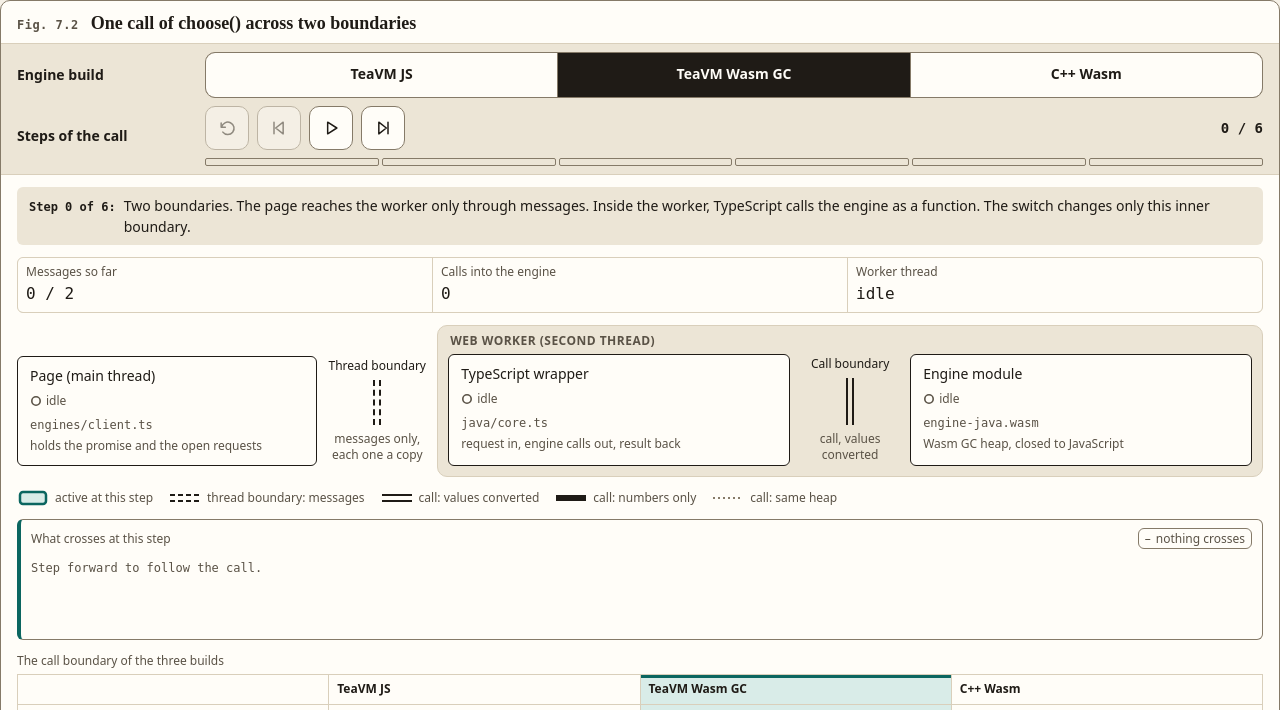
Scenario: figure J7: walls and variants › changes wall B, the tag, the files and the memory note on a switch, and wall A not at all
Click the radio button labelled "TeaVM JS": (382, 75) [206, 53, 557, 97]
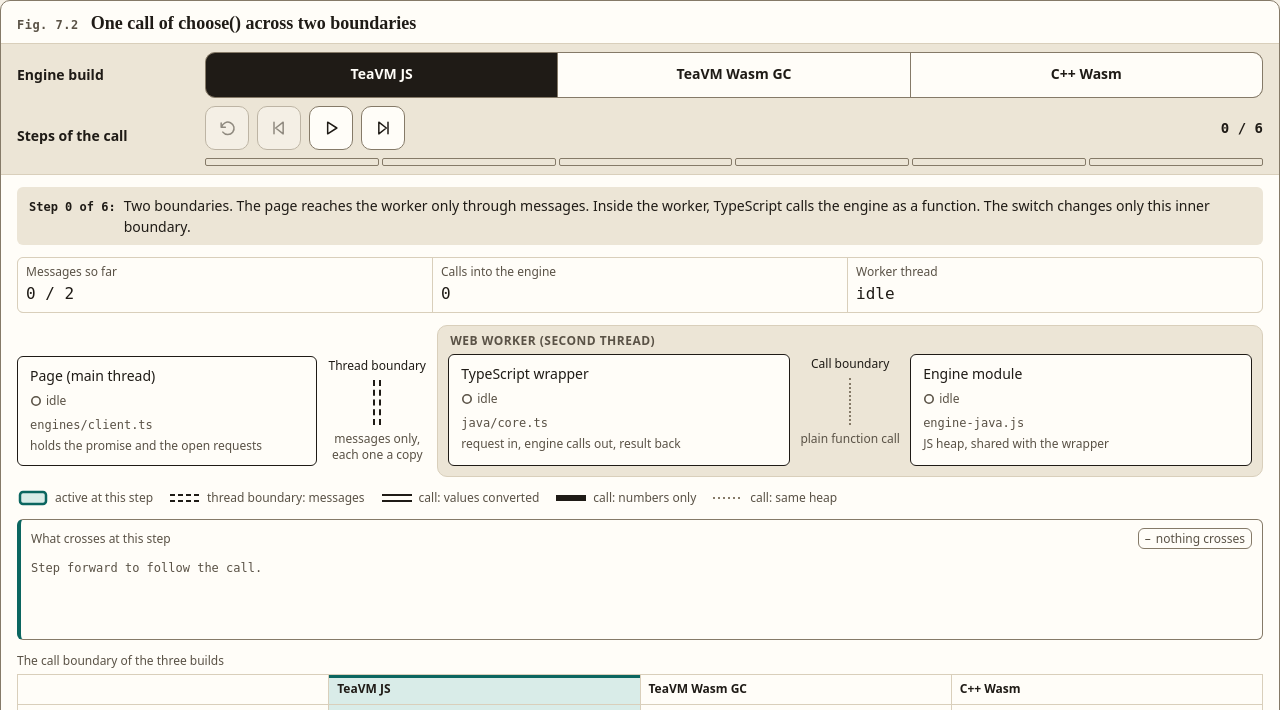
Now the text "plain function call" is shown, box [800, 430, 900, 447]
Now the text "JS heap, shared with the wrapper" is shown, box [923, 435, 1109, 452]
Click the radio button labelled "TeaVM Wasm GC": (734, 75) [558, 53, 910, 97]
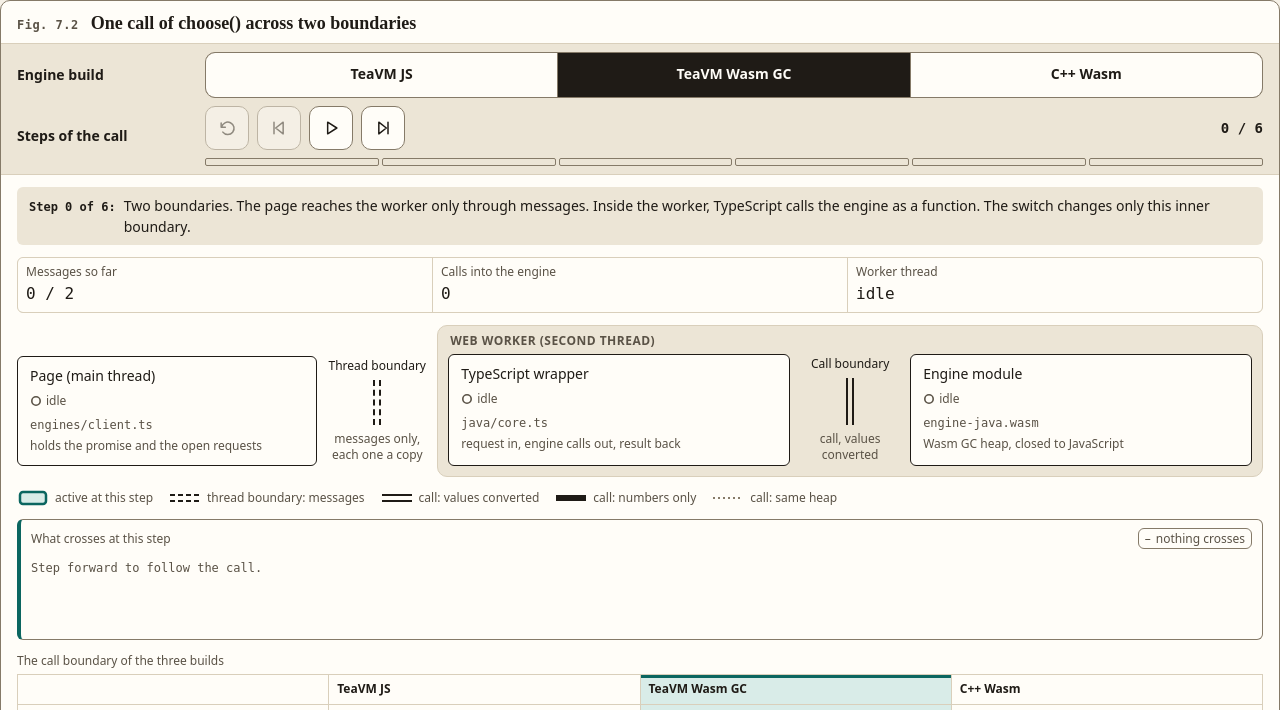
Now the text "call, values converted" is shown, box [820, 430, 881, 463]
Now the text "Wasm GC heap, closed to JavaScript" is shown, box [923, 435, 1124, 452]
Click the radio button labelled "C++ Wasm": (1086, 75) [911, 53, 1262, 97]
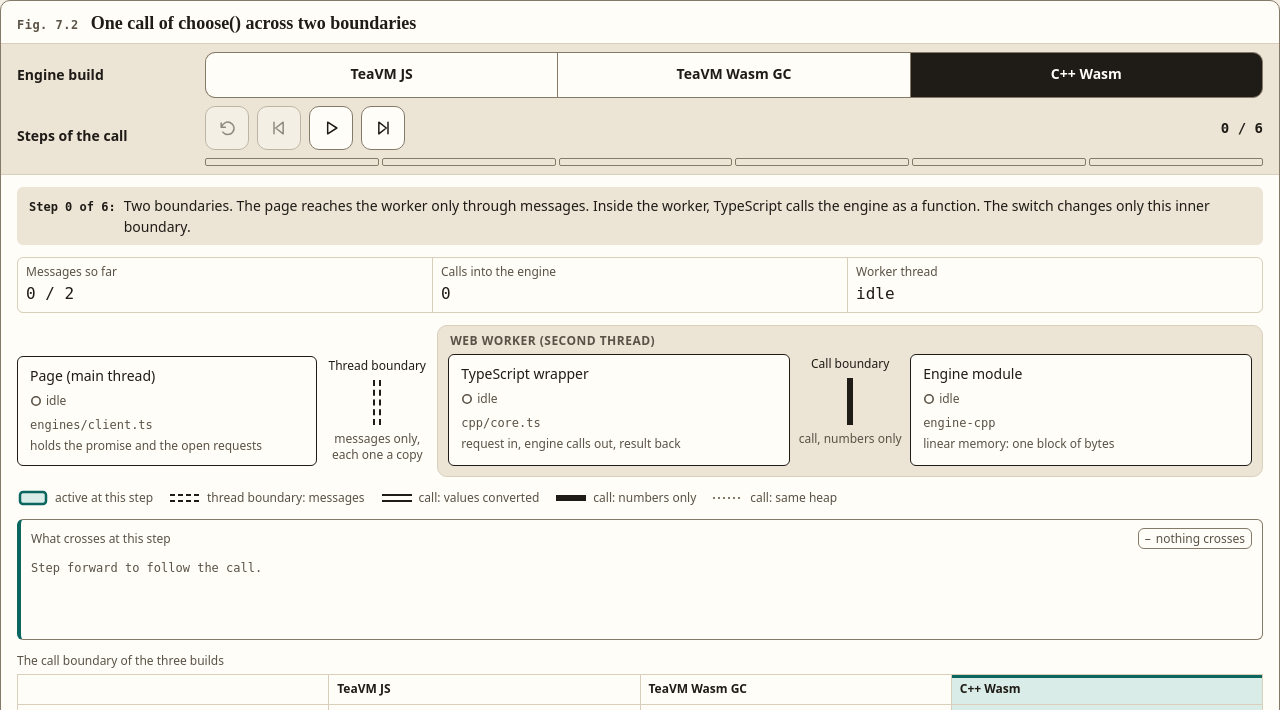
Now the text "call, numbers only" is shown, box [799, 430, 902, 447]
Now the text "linear memory: one block of bytes" is shown, box [923, 435, 1114, 452]
